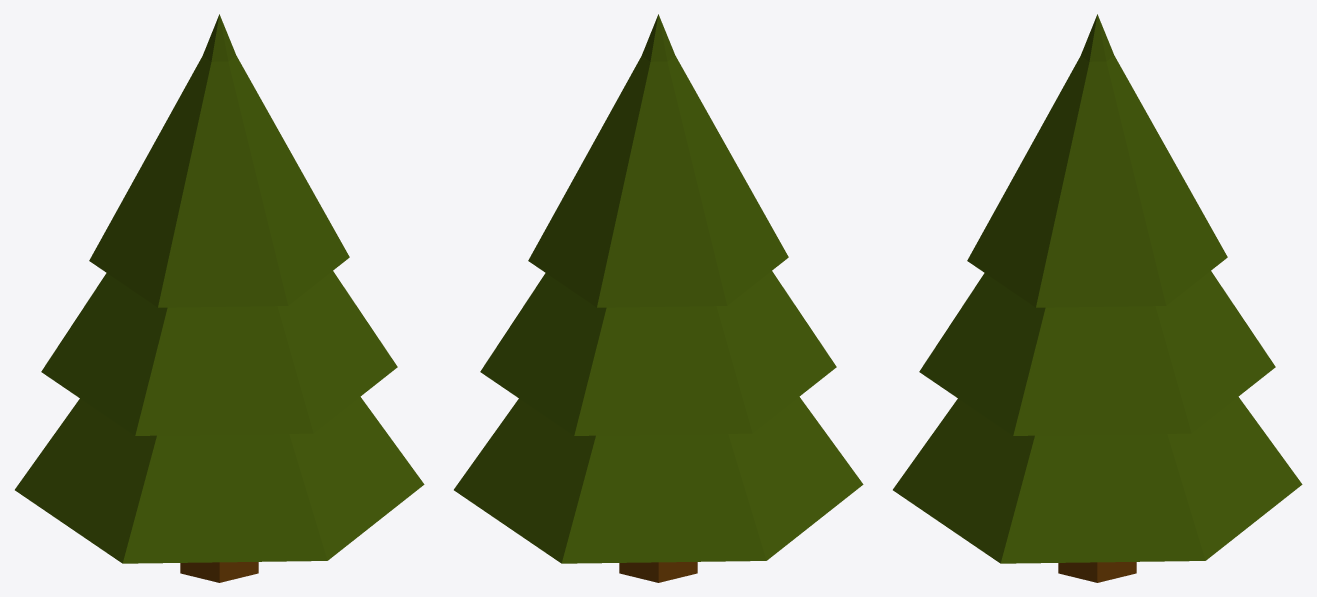
File: TreeA.fbx
3 views of the same model, side by side, from view 1: azimuth 30°, elevation 25°; view 2: azimuth 150°, elevation 25°; view 3: azimuth 270°, elevation 25° (orthographic).
Parts seen in each view (by area): view 1: group_0.003; view 2: group_0.003; view 3: group_0.003.
Boxes of the visible parts, x1,y1,x2,y2 form: group_0.003: (15, 14, 424, 582); group_0.003: (454, 14, 863, 582); group_0.003: (893, 14, 1302, 582).
Bounding box in the file's own units: 196 × 329 × 222.
